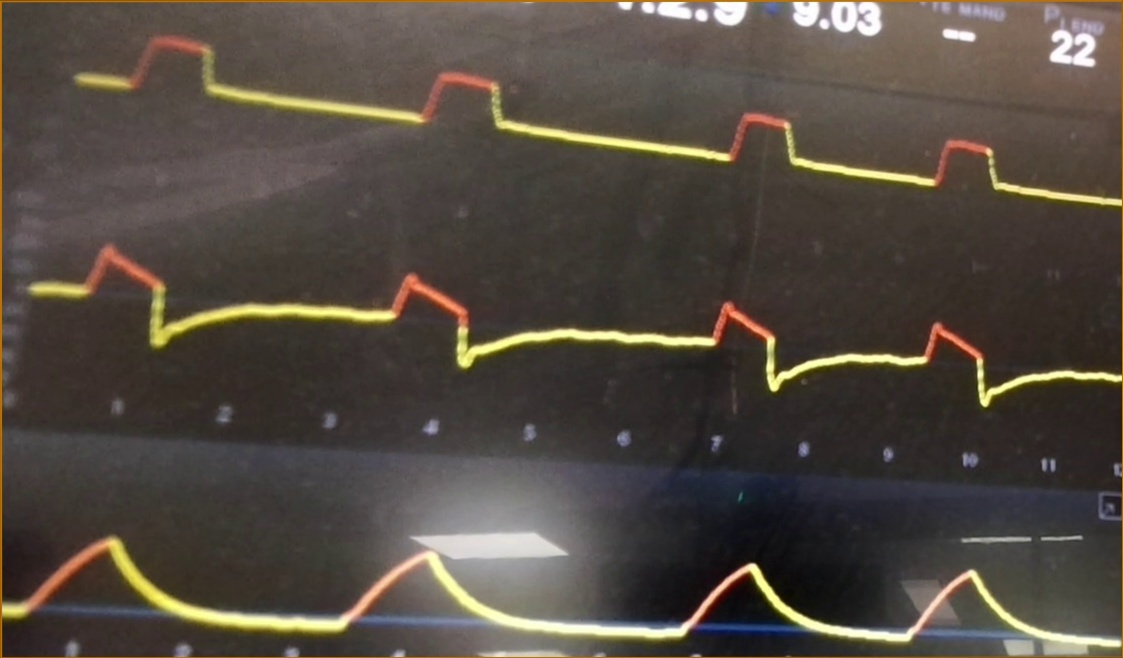Normal Flow: (27, 236, 1123, 407)
Normal Volume: (1, 519, 1123, 648)
